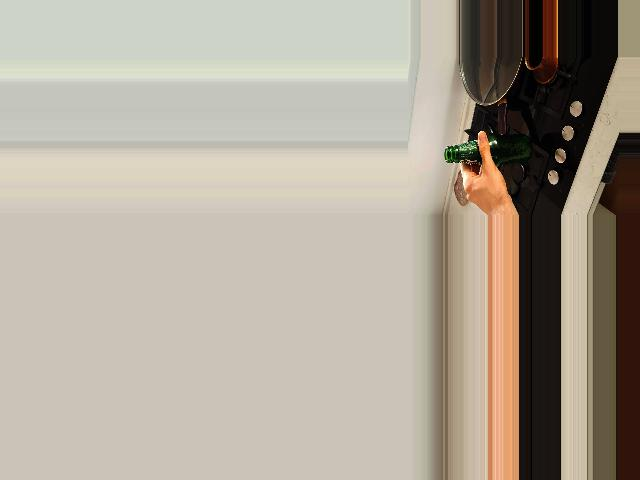beer: (445, 134, 532, 163)
